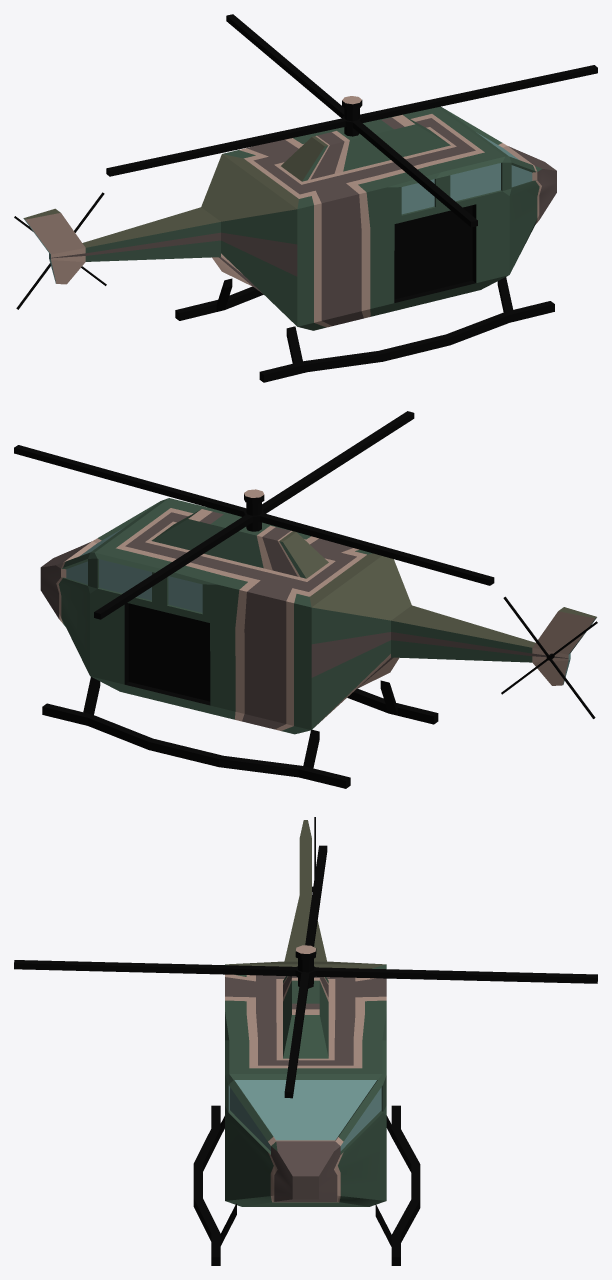
The model's file is Helicopter.fbx.
3 views of the same model, one above another, from view 1: azimuth 30°, elevation 25°; view 2: azimuth 150°, elevation 25°; view 3: azimuth 270°, elevation 25° (orthographic). The views are drawn at different scales.
Parts seen in each view (by area): view 1: Helicopter, Helicopter.001; view 2: Helicopter, Helicopter.001, Helicopter.002; view 3: Helicopter, Helicopter.001.
Boxes of the visible parts, box(x1,y1,x2,y2) form: Helicopter: box(23, 106, 556, 382); Helicopter.001: box(106, 14, 597, 227); Helicopter: box(40, 498, 596, 788); Helicopter.001: box(14, 411, 494, 619); Helicopter.002: box(501, 596, 597, 718); Helicopter: box(193, 820, 420, 1265); Helicopter.001: box(14, 845, 597, 1098).
Size of the model in its own units: 11.9 by 4.35 by 9.87.
